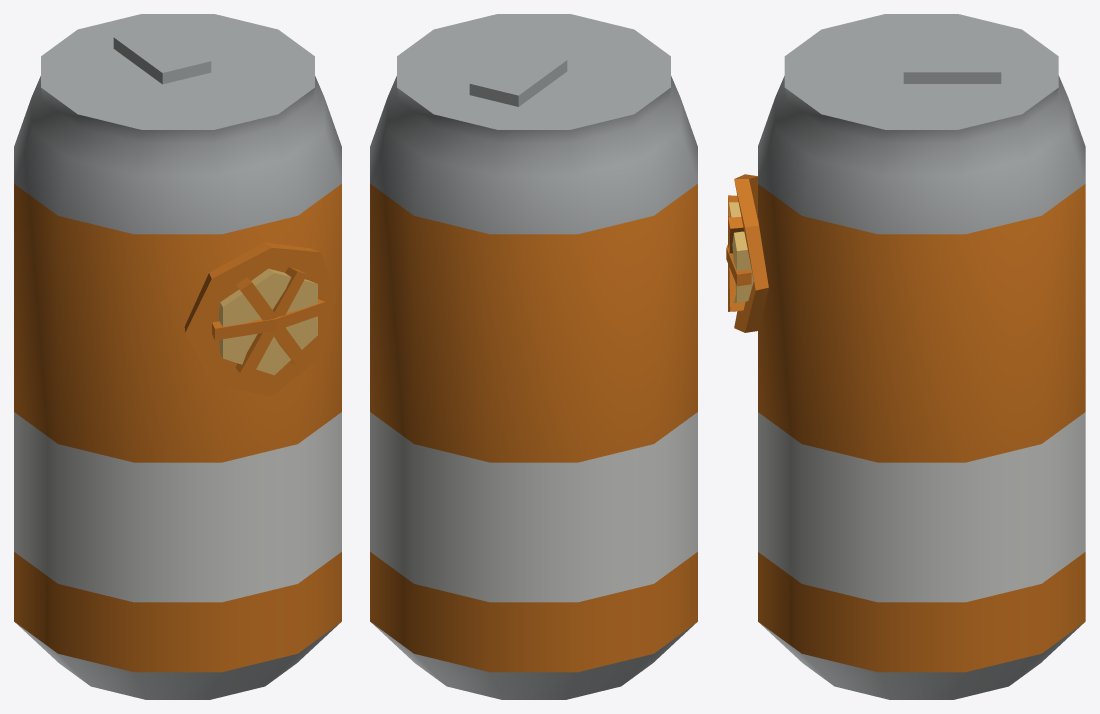
The model's file is hh_lon_cam.glb.
3 views of the same model, side by side, from view 1: azimuth 30°, elevation 25°; view 2: azimuth 150°, elevation 25°; view 3: azimuth 270°, elevation 25° (orthographic).
Parts seen in each view (by area): view 1: hh_lon_cam; view 2: hh_lon_cam; view 3: hh_lon_cam.
Boxes of the visible parts, box(x1,y1,x2,y2) form: hh_lon_cam: box(14, 14, 341, 699); hh_lon_cam: box(370, 14, 697, 699); hh_lon_cam: box(726, 14, 1085, 699).
Bounding box in the file's own units: 0.0638 × 0.1265 × 0.0699.
